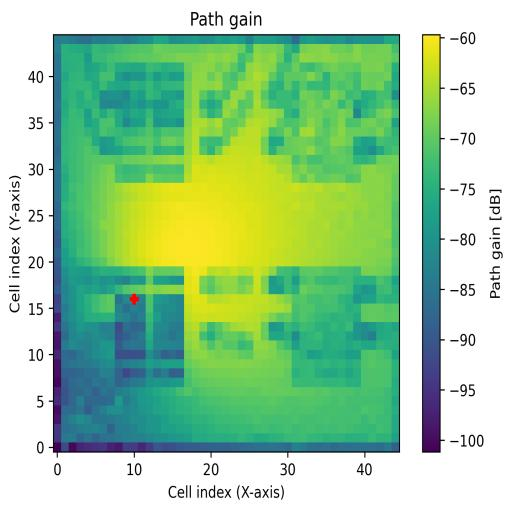Concrete: (286, 62, 360, 184)
Glass: (116, 63, 184, 184)
Metal: (291, 267, 362, 388)
Wood: (116, 267, 184, 387)
